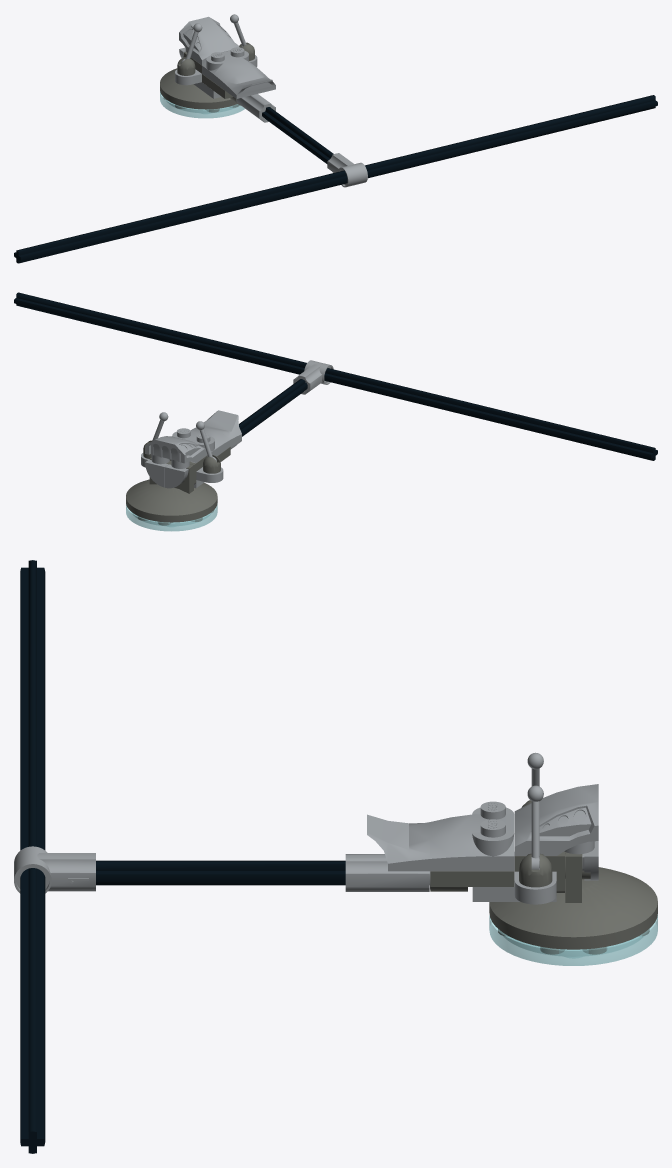
The model's file is crane2.dae.
3 renders of one model, top to bottom at view 1: azimuth 30°, elevation 25°; view 2: azimuth 150°, elevation 25°; view 3: azimuth 270°, elevation 25°, orthographic. The views are drawn at different scales.
Parts seen in each view (by area): view 1: Inner-Node-UntitledModel_dot_io-19, Inner-Node-UntitledModel_dot_io-18, Inner-Node-UntitledModel_dot_io-3, Inner-Node-UntitledModel_dot_io-0, Inner-Node-UntitledModel_dot_io-17, Inner-Node-UntitledModel_dot_io-1, Inner-Node-UntitledModel_dot_io-16, Inner-Node-UntitledModel_dot_io-15; view 2: Inner-Node-UntitledModel_dot_io-19, Inner-Node-UntitledModel_dot_io-0, Inner-Node-UntitledModel_dot_io-18, Inner-Node-UntitledModel_dot_io-3, Inner-Node-UntitledModel_dot_io-17, Inner-Node-UntitledModel_dot_io-1, Inner-Node-UntitledModel_dot_io-16, Inner-Node-UntitledModel_dot_io-4, Inner-Node-UntitledModel_dot_io-5; view 3: Inner-Node-UntitledModel_dot_io-19, Inner-Node-UntitledModel_dot_io-0, Inner-Node-UntitledModel_dot_io-18, Inner-Node-UntitledModel_dot_io-17, Inner-Node-UntitledModel_dot_io-3, Inner-Node-UntitledModel_dot_io-1, Inner-Node-UntitledModel_dot_io-16, Inner-Node-UntitledModel_dot_io-15, Inner-Node-UntitledModel_dot_io-12, Inner-Node-UntitledModel_dot_io-8, Inner-Node-UntitledModel_dot_io-11, Inner-Node-UntitledModel_dot_io-7.
Part boxes in pixels (x1,y1,x2,y2): Inner-Node-UntitledModel_dot_io-19: [14, 95, 657, 263]; Inner-Node-UntitledModel_dot_io-18: [202, 47, 275, 98]; Inner-Node-UntitledModel_dot_io-3: [179, 16, 239, 65]; Inner-Node-UntitledModel_dot_io-0: [160, 52, 239, 112]; Inner-Node-UntitledModel_dot_io-17: [262, 107, 333, 163]; Inner-Node-UntitledModel_dot_io-1: [160, 91, 244, 118]; Inner-Node-UntitledModel_dot_io-16: [327, 153, 367, 187]; Inner-Node-UntitledModel_dot_io-15: [236, 94, 275, 122]; Inner-Node-UntitledModel_dot_io-19: [14, 292, 657, 460]; Inner-Node-UntitledModel_dot_io-0: [126, 458, 217, 525]; Inner-Node-UntitledModel_dot_io-18: [172, 410, 241, 456]; Inner-Node-UntitledModel_dot_io-3: [145, 436, 207, 468]; Inner-Node-UntitledModel_dot_io-17: [239, 379, 307, 436]; Inner-Node-UntitledModel_dot_io-1: [126, 503, 217, 531]; Inner-Node-UntitledModel_dot_io-16: [293, 360, 333, 394]; Inner-Node-UntitledModel_dot_io-4: [165, 464, 188, 488]; Inner-Node-UntitledModel_dot_io-5: [145, 459, 168, 487]; Inner-Node-UntitledModel_dot_io-19: [20, 560, 45, 1153]; Inner-Node-UntitledModel_dot_io-0: [489, 852, 657, 954]; Inner-Node-UntitledModel_dot_io-18: [367, 801, 514, 871]; Inner-Node-UntitledModel_dot_io-17: [96, 860, 345, 885]; Inner-Node-UntitledModel_dot_io-3: [514, 784, 598, 855]; Inner-Node-UntitledModel_dot_io-1: [489, 914, 657, 965]; Inner-Node-UntitledModel_dot_io-16: [14, 846, 95, 893]; Inner-Node-UntitledModel_dot_io-15: [345, 854, 429, 891]; Inner-Node-UntitledModel_dot_io-12: [430, 871, 514, 891]; Inner-Node-UntitledModel_dot_io-8: [519, 853, 552, 887]; Inner-Node-UntitledModel_dot_io-11: [514, 868, 556, 904]; Inner-Node-UntitledModel_dot_io-7: [527, 785, 543, 869].
Bounding box in the file's own units: 640 × 95.79 × 305.
